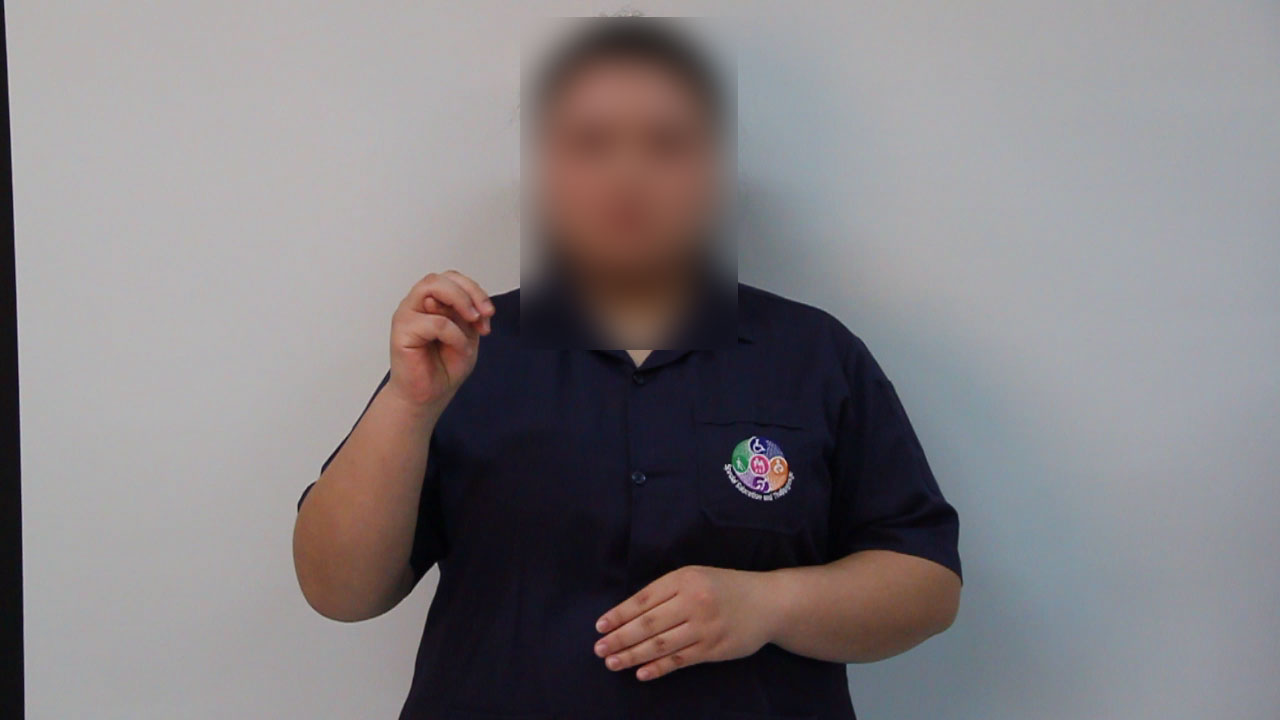mor: (376, 247, 503, 445)
